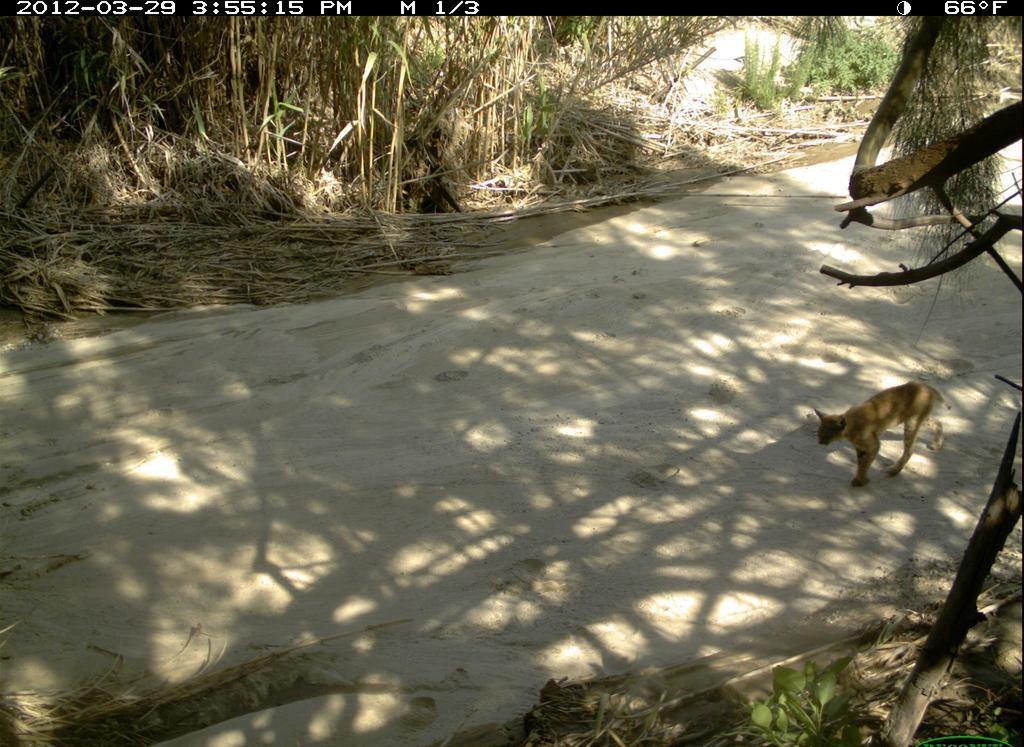bobcat: (803, 376, 963, 497)
